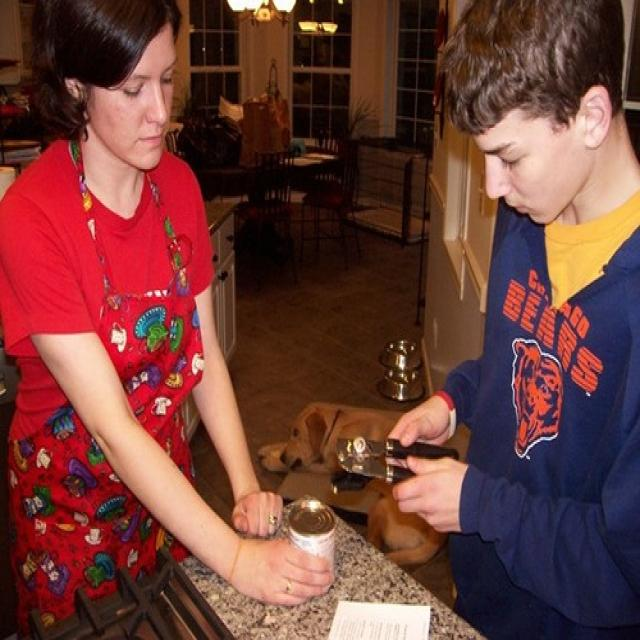chair: (246, 150, 300, 294)
dog: (259, 406, 467, 574)
